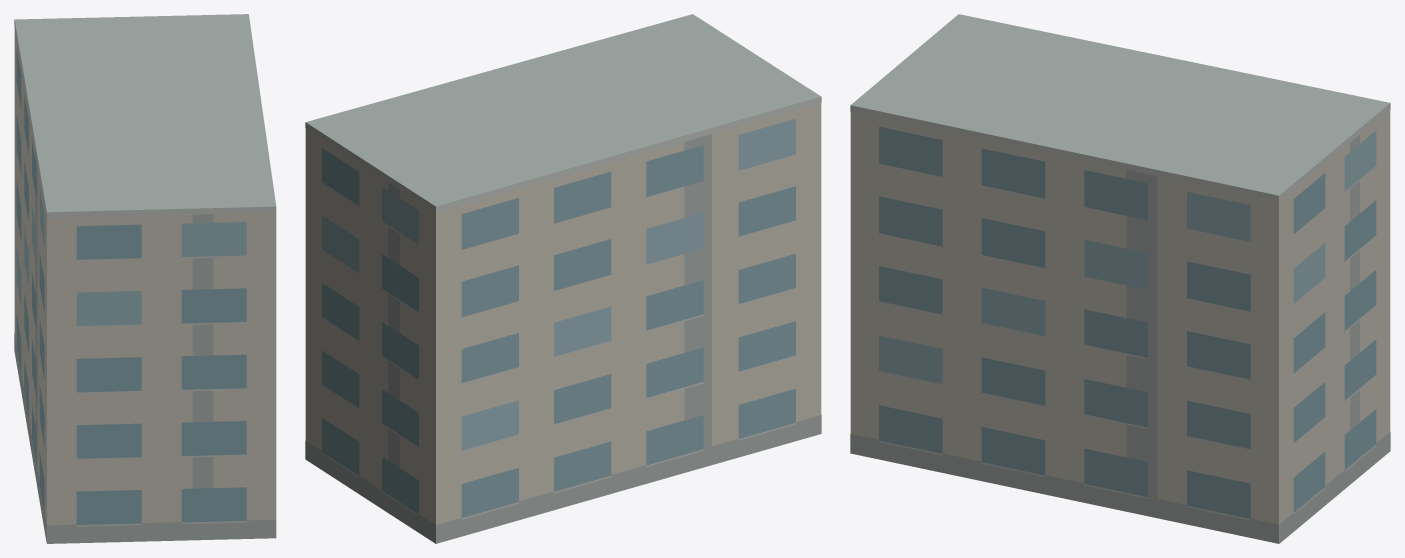
File: survey-upis-32892086.glb
3 renders of one model, left to right at view 1: azimuth 30°, elevation 25°; view 2: azimuth 150°, elevation 25°; view 3: azimuth 270°, elevation 25°, orthographic. The views are drawn at different scales.
Visible parts, largest first — view 1: survey-upis-32892086.tmp; view 2: survey-upis-32892086.tmp; view 3: survey-upis-32892086.tmp.
Part boxes in pixels (x1,y1,x2,y2): survey-upis-32892086.tmp: (14, 14, 276, 543); survey-upis-32892086.tmp: (305, 14, 821, 543); survey-upis-32892086.tmp: (850, 14, 1390, 543).
Bounding box in the file's own units: 14.89 × 13.3 × 18.7.
